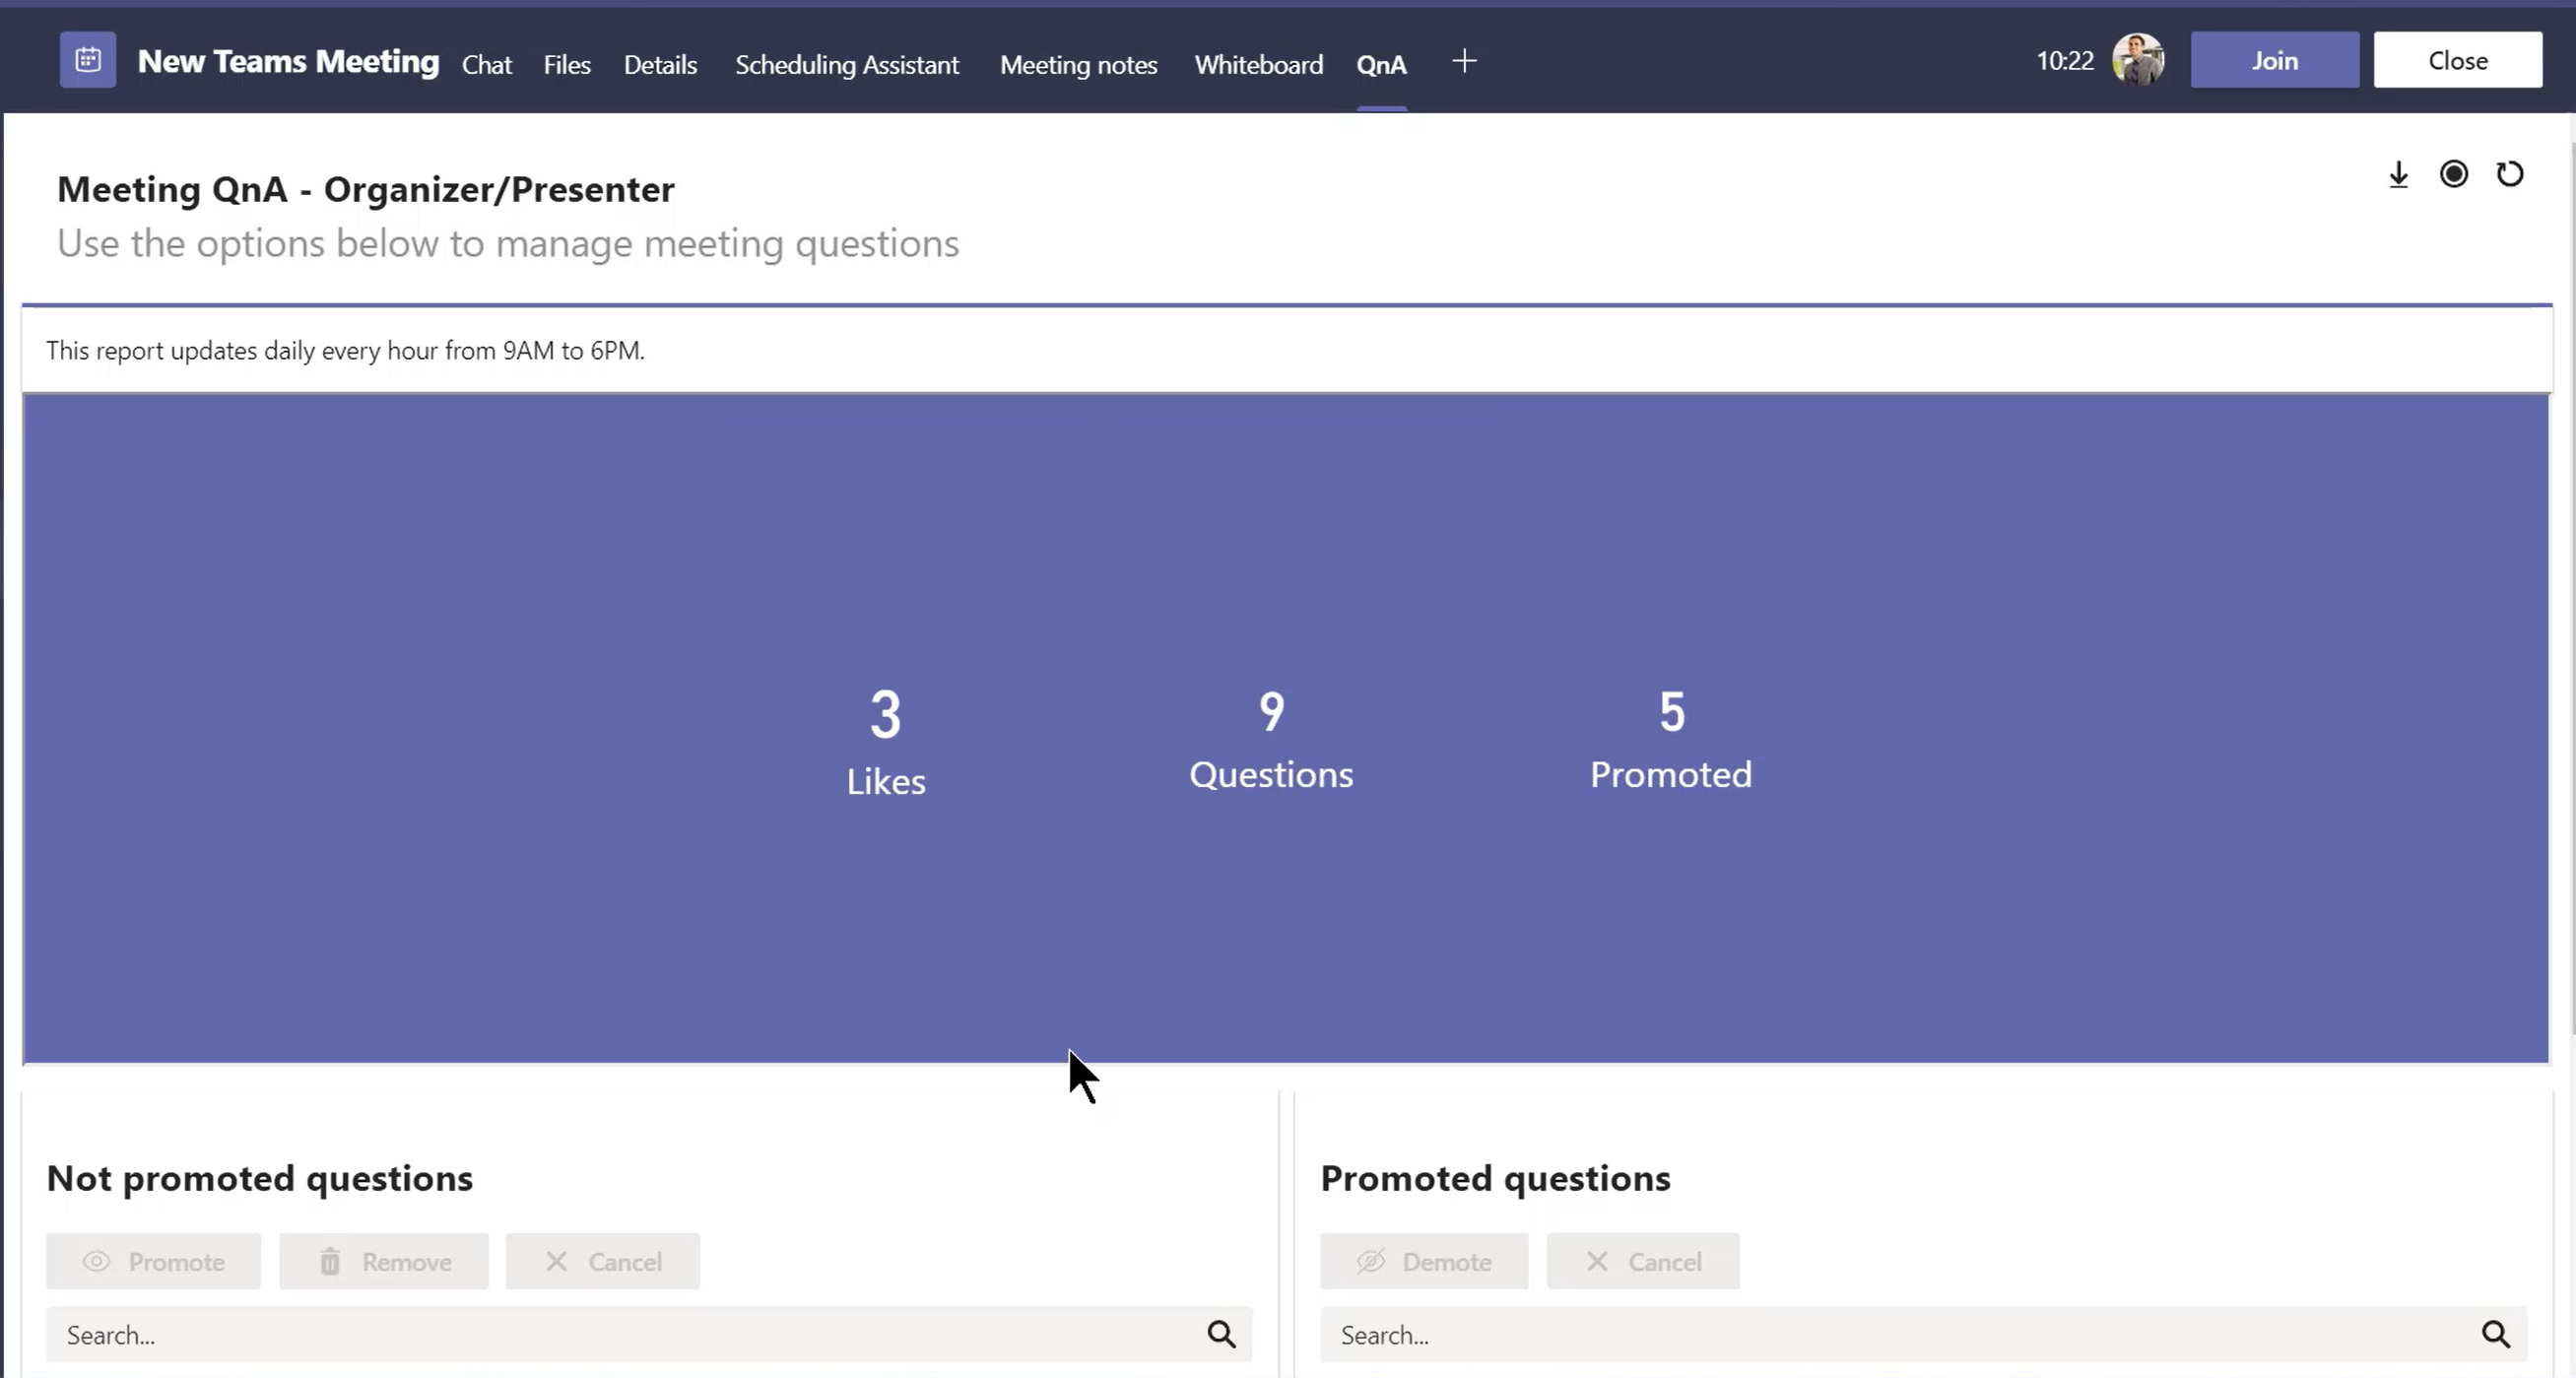

The page's visual inventory and layout, read from the dashboard file:
{"tool":"powerbi","page":{"name":"Home","canvas":[1280,720],"ordinal":0},"visuals":[{"type":"card","fields":{"Values":["Sum(questionsTable.Content.likedBy)"]},"box":[0,0,416.8,720.4],"z":0},{"type":"card","fields":{"Values":["Count(questionsTable.Content.question)"]},"box":[416.8,0,413.5,720.4],"z":1000},{"type":"card","fields":{"Values":["CountNonNull(questionsTable.Content.promoted)"]},"box":[830.4,0,449.6,720.4],"z":2000}]}

Visuals, with their boxes on the page's 1280x720 design canvas (x1, y1, x2, y2). These are canvas units, not pixel positions in the 2576x1378 screenshot, which may show the page scaled, cropped or inside an application window:
card - Sum(questionsTable.Content.likedBy): [left=0, top=0, right=417, bottom=720]
card - Count(questionsTable.Content.question): [left=417, top=0, right=830, bottom=720]
card - CountNonNull(questionsTable.Content.promoted): [left=830, top=0, right=1280, bottom=720]
